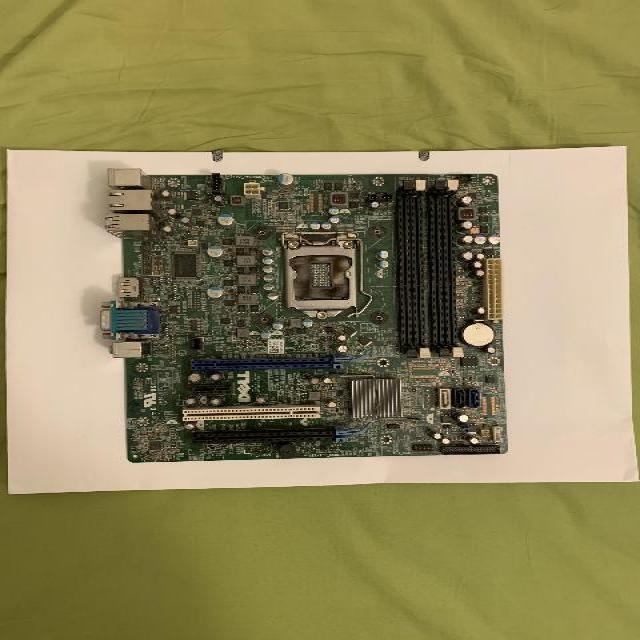Mainboard: (108, 169, 505, 457)
